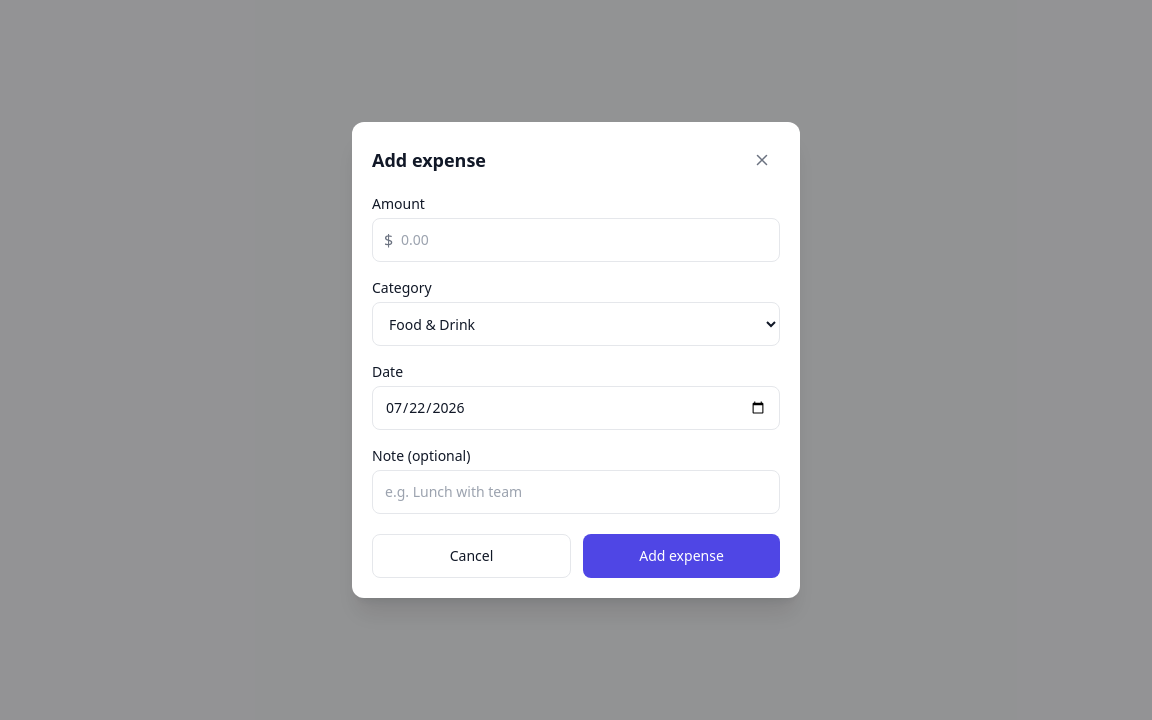
Test case: ExpenseFormModal — create › creates the expense, closes the modal and toasts success
This screenshot has width=1152, height=720.
Type "15" into the number field labelled "Amount".
click(576, 240); type("15")  # box [372, 218, 780, 262]
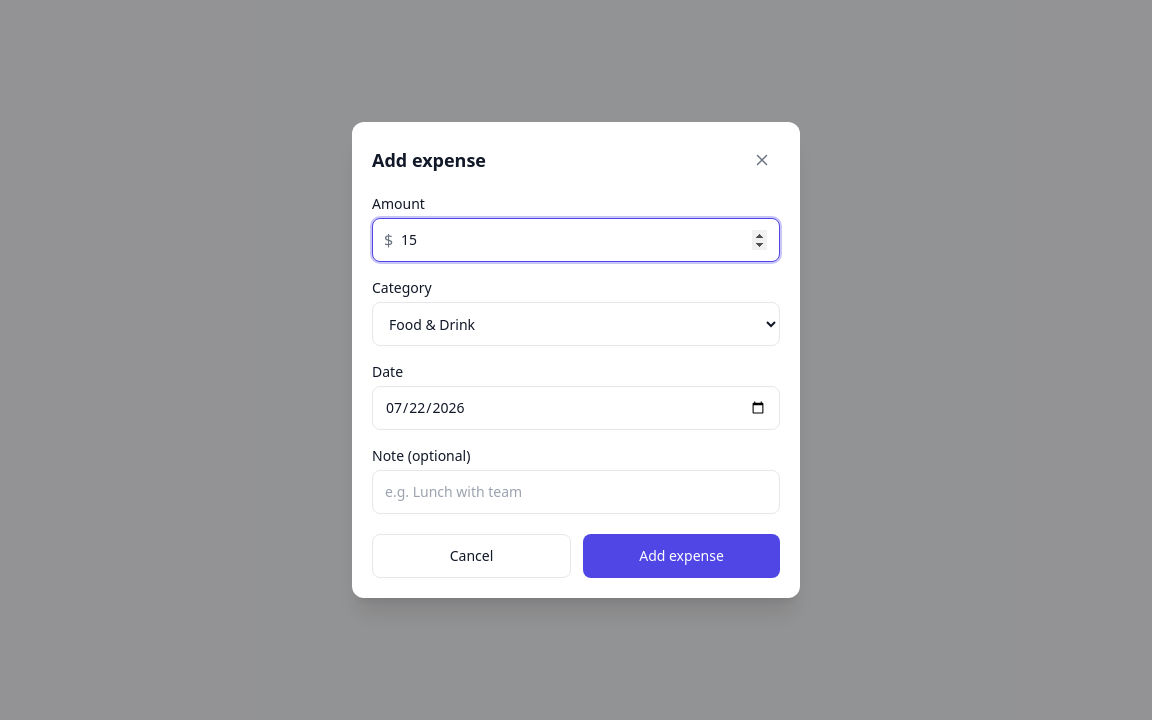
Click the button "Add expense".
click(682, 556)  # box [583, 534, 780, 578]
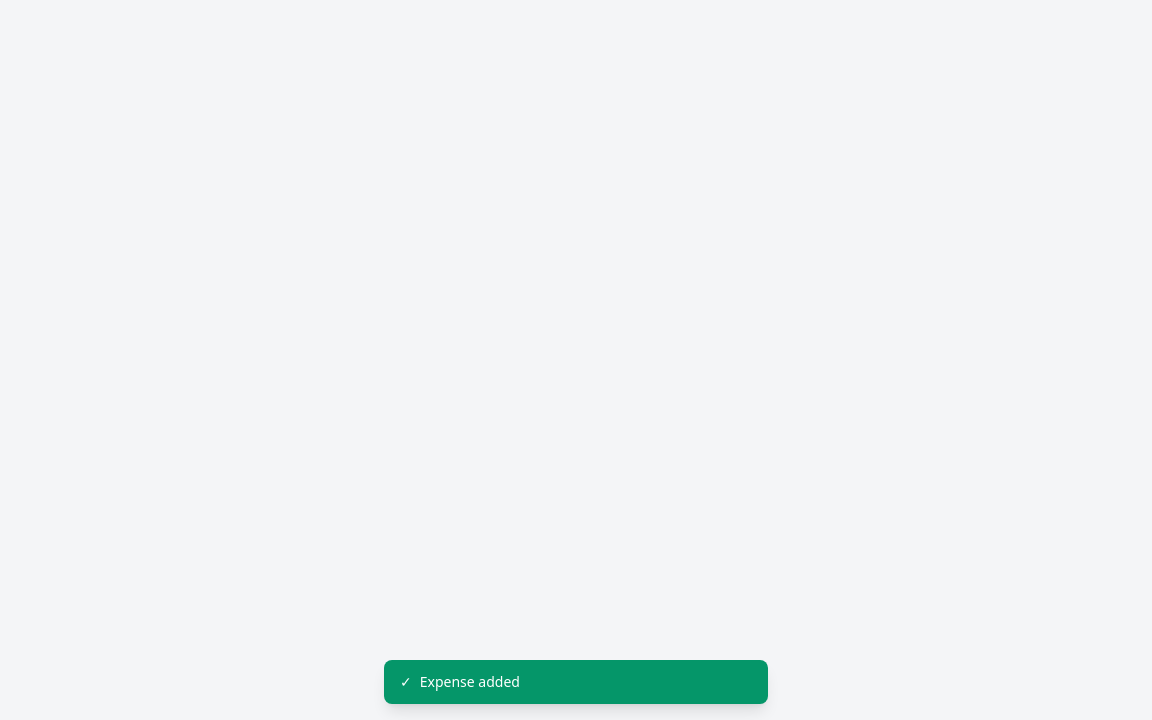
Expected: the text "Expense added" is shown, [420, 672, 520, 692]
